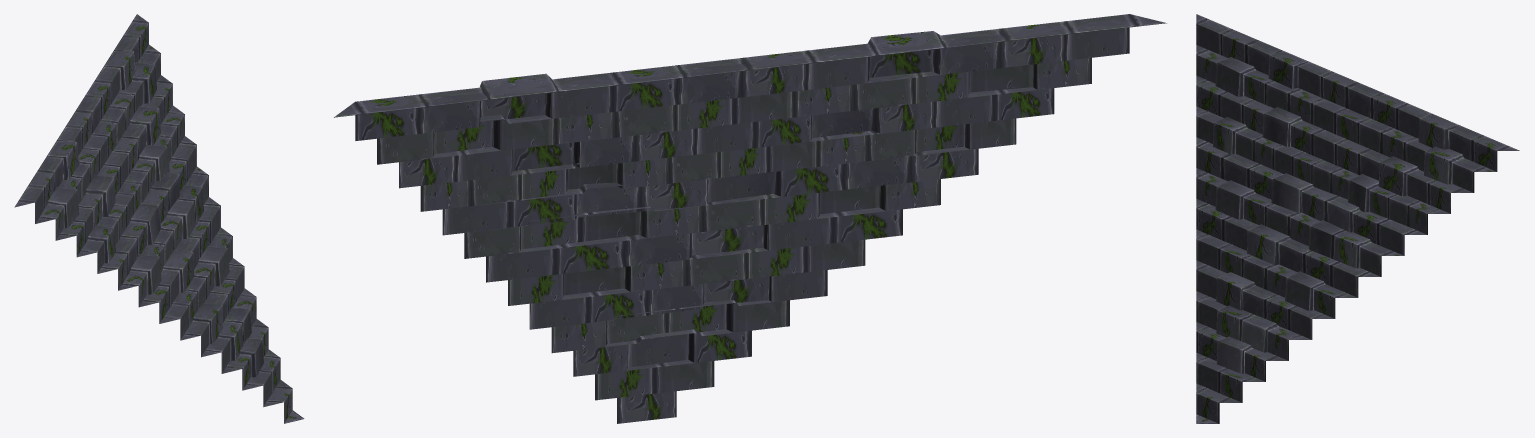
File: MOD_Stairs_01_E_angle_concave_1.fbx
The picture shows the model from 3 angles, left to right: view 1: azimuth 30°, elevation 25°; view 2: azimuth 150°, elevation 25°; view 3: azimuth 270°, elevation 25°; orthographic projection. The views are drawn at different scales.
Visible parts, largest first — view 1: MOD_Stairs_01_E_angle_concave_1; view 2: MOD_Stairs_01_E_angle_concave_1; view 3: MOD_Stairs_01_E_angle_concave_1.
Boxes of the visible parts, bbox=[...] form: MOD_Stairs_01_E_angle_concave_1: bbox=[14, 14, 304, 423]; MOD_Stairs_01_E_angle_concave_1: bbox=[334, 14, 1166, 423]; MOD_Stairs_01_E_angle_concave_1: bbox=[1196, 14, 1519, 423].
Size of what is drawn, in the model's own units: 400 by 374 by 400.
